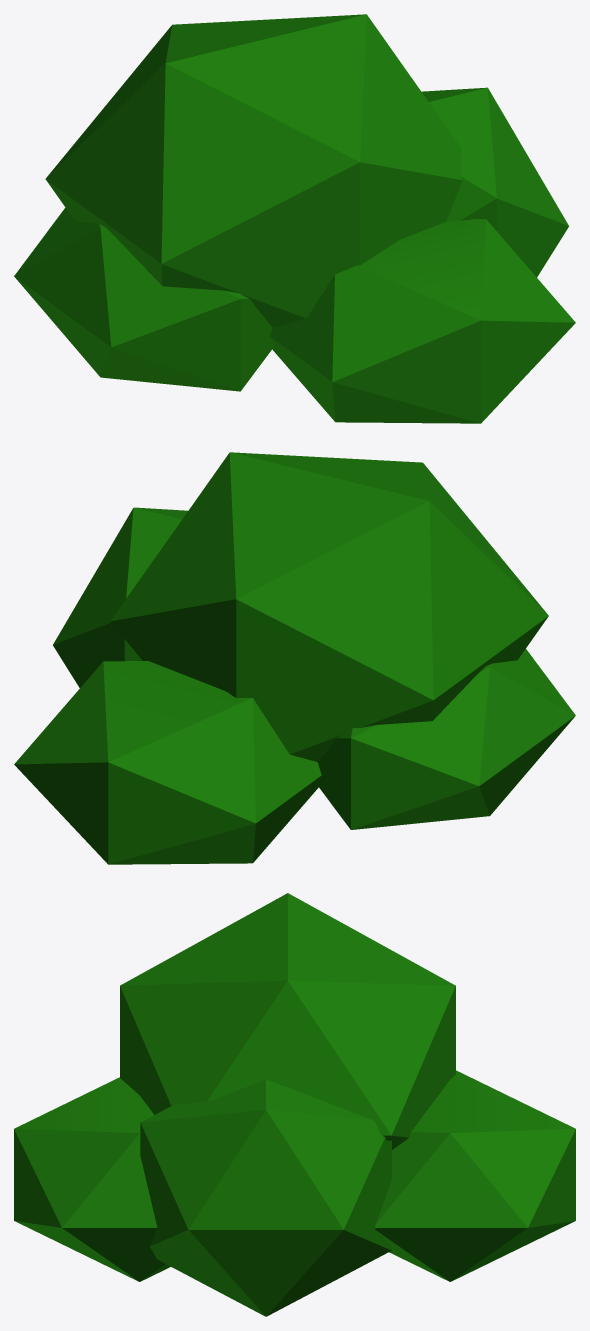
The model's file is bush.fbx.
3 renders of one model, top to bottom at view 1: azimuth 30°, elevation 25°; view 2: azimuth 150°, elevation 25°; view 3: azimuth 270°, elevation 25°, orthographic. The views are drawn at different scales.
Parts seen in each view (by area): view 1: Platonic, Platonic_2, Platonic_4, Platonic_3; view 2: Platonic, Platonic_1, Platonic_4, Platonic_3; view 3: Platonic, Platonic_3, Platonic_1, Platonic_2.
Part boxes in pixels (x1,y1,x2,y2): Platonic: [45, 14, 462, 327]; Platonic_2: [270, 219, 575, 423]; Platonic_4: [14, 208, 274, 391]; Platonic_3: [422, 87, 568, 277]; Platonic: [110, 452, 548, 761]; Platonic_1: [14, 661, 321, 864]; Platonic_4: [317, 649, 575, 829]; Platonic_3: [53, 507, 187, 687]; Platonic: [120, 893, 455, 1149]; Platonic_3: [140, 1079, 391, 1316]; Platonic_1: [375, 1070, 575, 1281]; Platonic_2: [14, 1077, 170, 1281].
Bounding box in the file's own units: 314 × 216 × 380.
